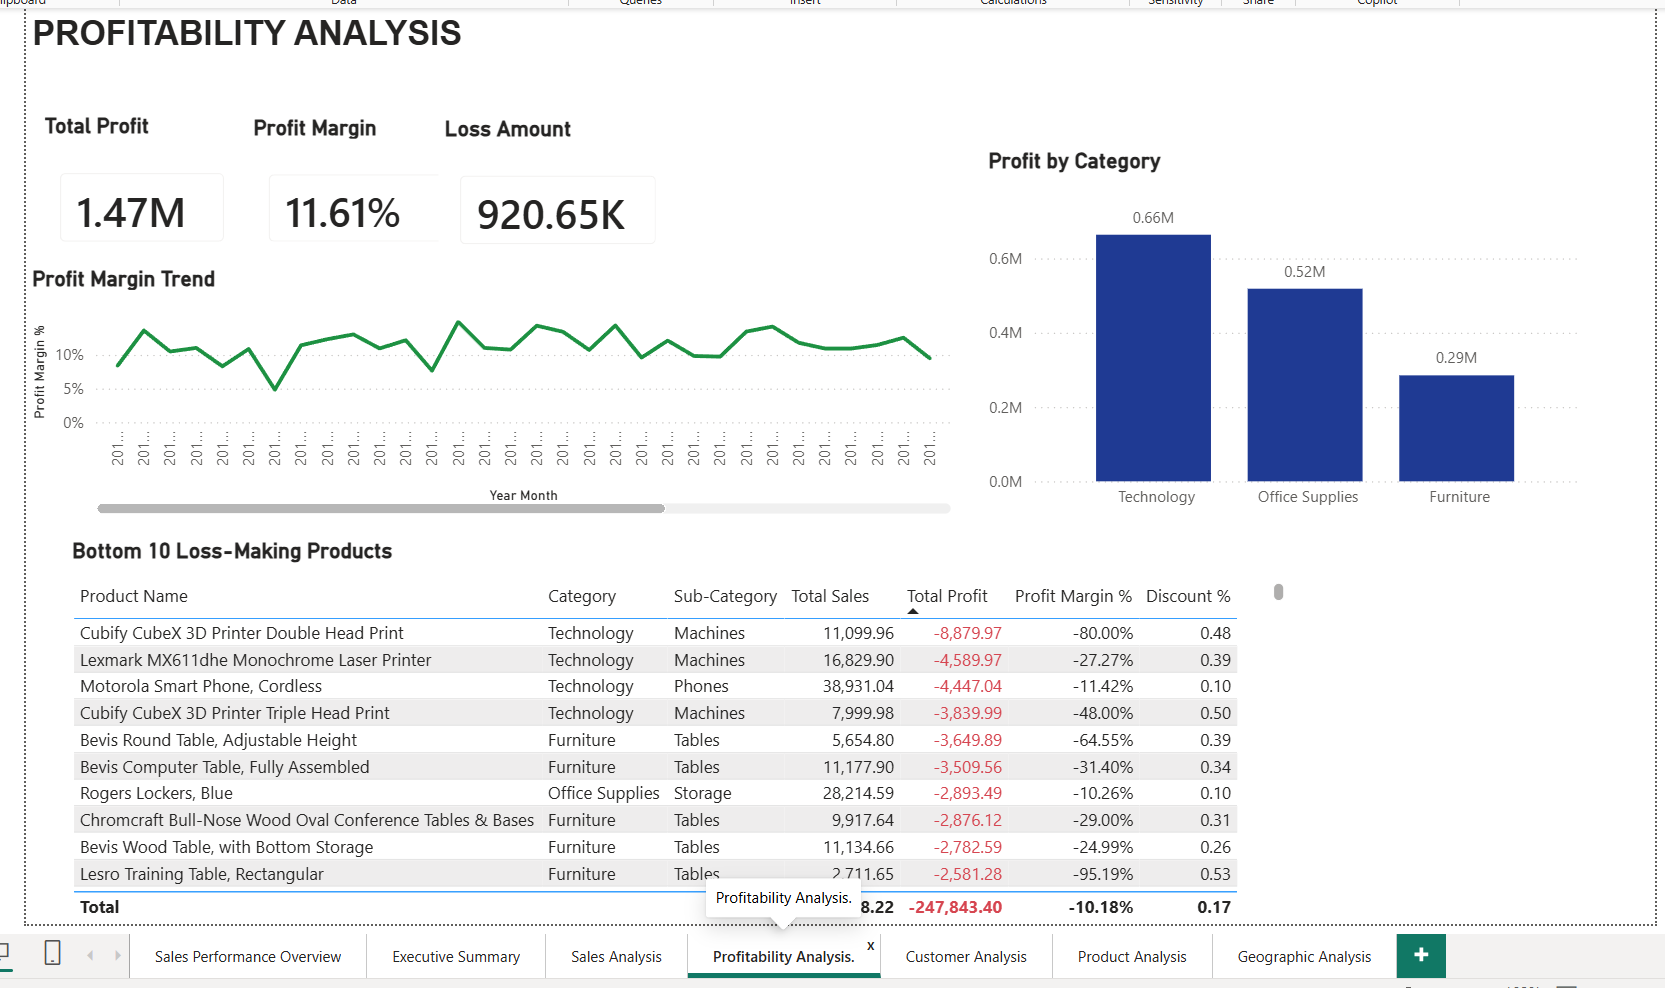

The dashboard page shown, as its layout file describes it:
{"tool":"powerbi","page":{"name":"Profitability Analysis.","canvas":[1280,720],"ordinal":3},"visuals":[{"type":"cardVisual","title":"Total Profit","fields":{"Data":["Global-Superstore.Total Profit"]},"box":[10,82.5,163.8,118.8],"z":0},{"type":"cardVisual","title":"Profit Margin","fields":{"Data":["Global-Superstore.Profit Margin %"]},"box":[173.8,83.8,172.5,117.5],"z":1000},{"type":"cardVisual","title":"Loss Amount","fields":{"Data":["Calendar.Loss Amount Display"]},"box":[324.3,84.3,188.8,118.8],"z":2000},{"type":"lineChart","title":"Profit Margin Trend","fields":{"Category":["Calendar.Year Month"],"Y":["Global-Superstore.Profit Margin %"]},"box":[0,202,732,200],"z":3000},{"type":"clusteredColumnChart","title":"Profit by Category","fields":{"Category":["Global-Superstore.Category"],"Y":["Global-Superstore.Total Profit"]},"box":[752,110,476,292],"z":4000},{"type":"textbox","box":[0,0,1280,81.2],"z":5000},{"type":"tableEx","title":"Bottom 10 Loss-Making Products ","fields":{"Values":["Global-Superstore.Product Name","Global-Superstore.Category","Global-Superstore.Sub-Category","Global-Superstore.Total Sales","Global-Superstore.Total Profit","Global-Superstore.Profit Margin %","Calendar.Discount %"]},"box":[31.2,416.2,962.5,303.8],"z":6000}]}

Visuals, with their boxes on the page's 1280x720 design canvas (x1, y1, x2, y2). These are canvas units, not pixel positions in the 1665x988 screenshot, which may show the page scaled, cropped or inside an application window:
"Total Profit" cardVisual: [x1=10, y1=82, x2=174, y2=201]
"Profit Margin" cardVisual: [x1=174, y1=84, x2=346, y2=201]
"Loss Amount" cardVisual: [x1=324, y1=84, x2=513, y2=203]
"Profit Margin Trend" lineChart: [x1=0, y1=202, x2=732, y2=402]
"Profit by Category" clusteredColumnChart: [x1=752, y1=110, x2=1228, y2=402]
textbox: [x1=0, y1=0, x2=1280, y2=81]
"Bottom 10 Loss-Making Products " tableEx: [x1=31, y1=416, x2=994, y2=720]
